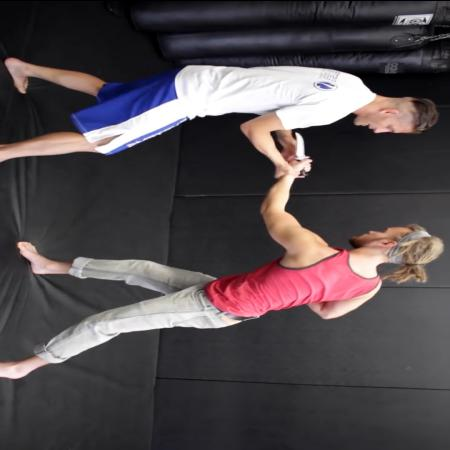long weapon: (286, 128, 316, 178)
